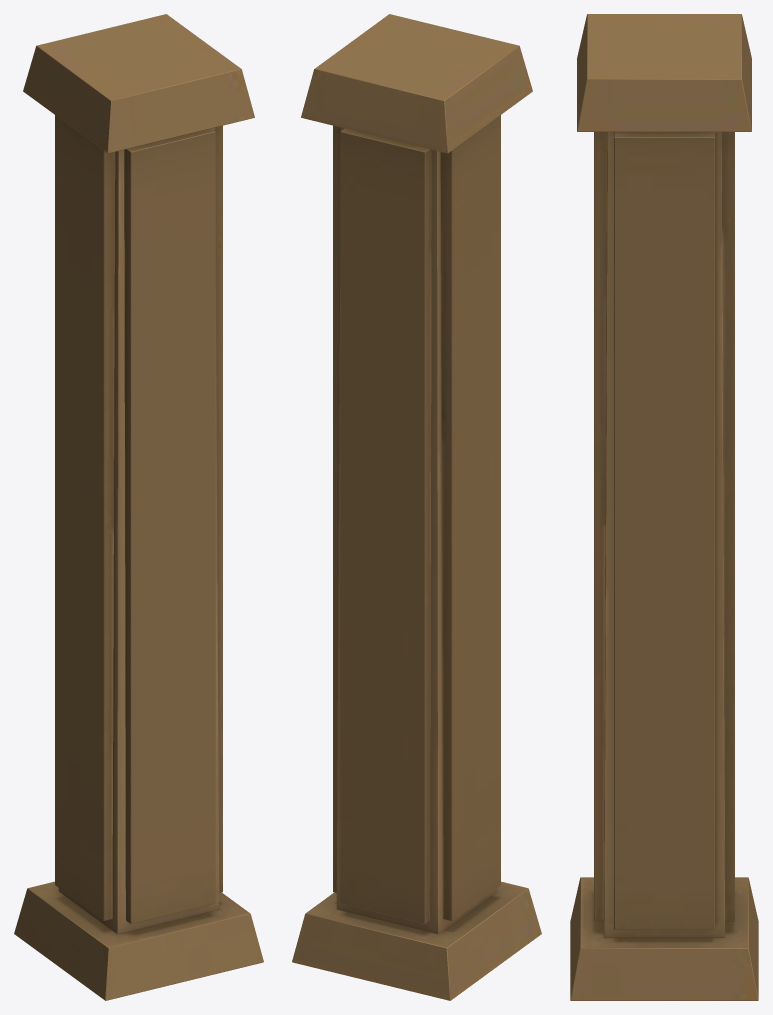
Rendered from BD_pillar.glb.
3 renders of one model, left to right at view 1: azimuth 30°, elevation 25°; view 2: azimuth 150°, elevation 25°; view 3: azimuth 270°, elevation 25°, orthographic. The views are drawn at different scales.
Parts seen in each view (by area): view 1: BD_pillar; view 2: BD_pillar; view 3: BD_pillar.
Boxes of the visible parts, <box> form: BD_pillar: <box>14,14,263,1000</box>; BD_pillar: <box>292,14,541,1000</box>; BD_pillar: <box>570,14,758,1000</box>.
Bounding box in the file's own units: 0.5594 × 3 × 0.5594.
1 material, 1 textured.
